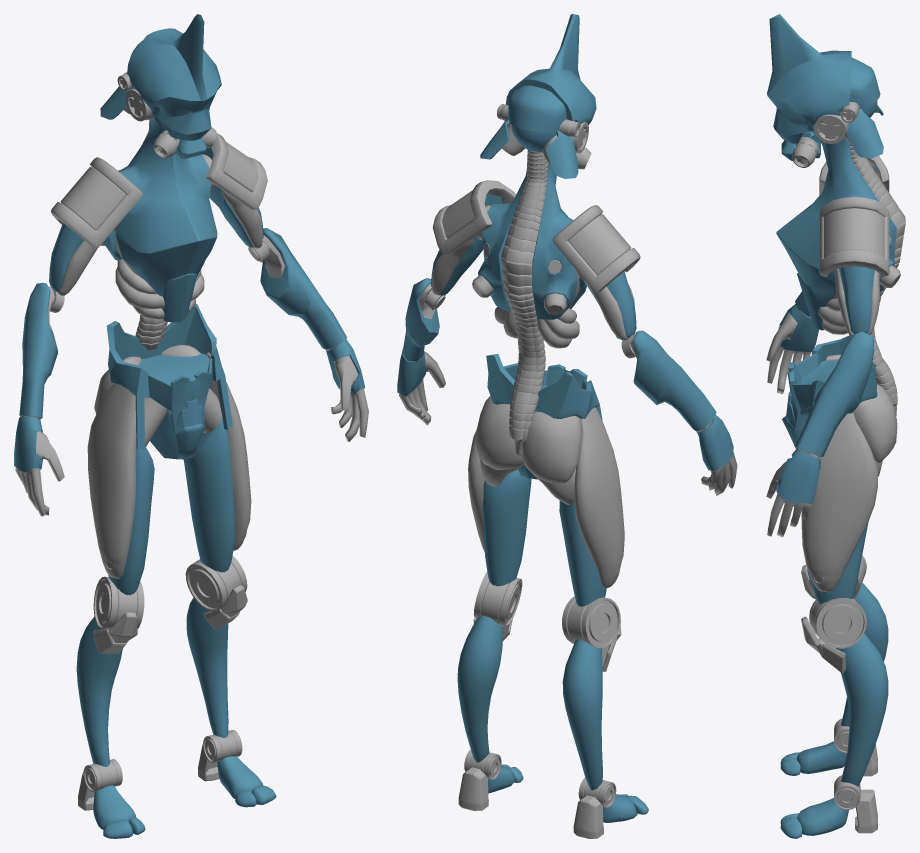
Rendered from SM_paddy.fbx.
3 renders of one model, left to right at view 1: azimuth 30°, elevation 25°; view 2: azimuth 150°, elevation 25°; view 3: azimuth 270°, elevation 25°, orthographic. The views are drawn at different scales.
Visible parts, largest first — view 1: SM_paddy; view 2: SM_paddy; view 3: SM_paddy.
Boxes of the visible parts, x1=… form: SM_paddy: x1=14, y1=14, x2=368, y2=838; SM_paddy: x1=397, y1=14, x2=737, y2=838; SM_paddy: x1=766, y1=14, x2=905, y2=838.
Bounding box in the file's own units: 89.13 × 204 × 32.76.
